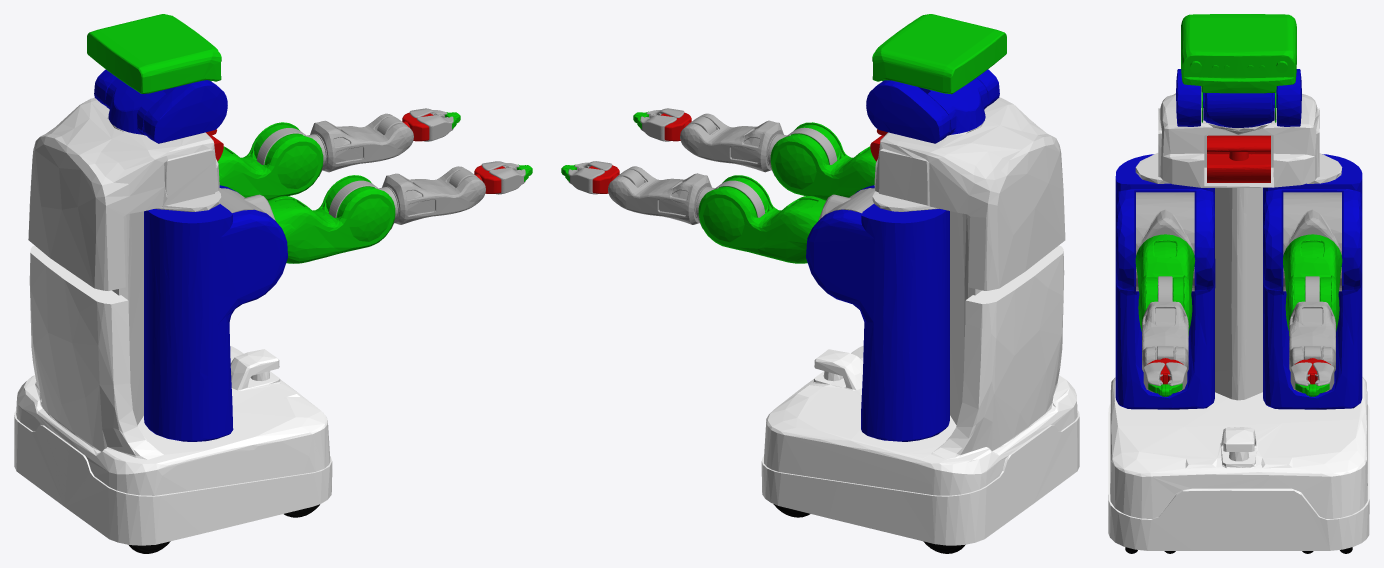
The picture shows the model from 3 angles, left to right: view 1: azimuth 30°, elevation 25°; view 2: azimuth 150°, elevation 25°; view 3: azimuth 270°, elevation 25°; orthographic projection. The views are drawn at different scales.
Visible parts, largest first — view 1: base_link, torso_lift_link, r_shoulder_pan_link, head_tilt_link, r_upper_arm_link, head_pan_link, l_upper_arm_link, r_forearm_link, l_forearm_link, r_shoulder_lift_link, r_elbow_flex_link, l_elbow_flex_link; view 2: base_link, torso_lift_link, l_shoulder_pan_link, head_tilt_link, l_upper_arm_link, head_pan_link, r_upper_arm_link, l_forearm_link, r_forearm_link, l_shoulder_lift_link, l_elbow_flex_link, r_elbow_flex_link; view 3: base_link, torso_lift_link, r_shoulder_pan_link, l_shoulder_pan_link, head_tilt_link, head_pan_link, l_upper_arm_link, r_upper_arm_link, laser_tilt_mount_link, l_shoulder_lift_link, r_shoulder_lift_link, r_forearm_link (+7 smaller).
Boxes of the visible parts, left/top/right/bottom form: base_link: left=14, top=245, right=332, bottom=545; torso_lift_link: left=28, top=97, right=221, bottom=425; r_shoulder_pan_link: left=144, top=185, right=287, bottom=441; head_tilt_link: left=87, top=14, right=221, bottom=93; r_upper_arm_link: left=268, top=175, right=395, bottom=263; head_pan_link: left=94, top=69, right=227, bottom=143; l_upper_arm_link: left=217, top=122, right=323, bottom=200; r_forearm_link: left=382, top=166, right=485, bottom=224; l_forearm_link: left=310, top=113, right=413, bottom=172; r_shoulder_lift_link: left=218, top=188, right=275, bottom=220; r_elbow_flex_link: left=329, top=180, right=397, bottom=229; l_elbow_flex_link: left=257, top=128, right=325, bottom=176; base_link: left=761, top=245, right=1079, bottom=545; torso_lift_link: left=872, top=97, right=1065, bottom=424; l_shoulder_pan_link: left=806, top=185, right=949, bottom=441; head_tilt_link: left=872, top=14, right=1006, bottom=94; l_upper_arm_link: left=698, top=175, right=825, bottom=263; head_pan_link: left=866, top=69, right=999, bottom=143; r_upper_arm_link: left=770, top=122, right=876, bottom=200; l_forearm_link: left=608, top=166, right=711, bottom=224; r_forearm_link: left=680, top=113, right=783, bottom=172; l_shoulder_lift_link: left=818, top=188, right=874, bottom=220; l_elbow_flex_link: left=696, top=180, right=765, bottom=228; r_elbow_flex_link: left=768, top=127, right=837, bottom=176; base_link: left=1108, top=377, right=1369, bottom=550; torso_lift_link: left=1135, top=86, right=1342, bottom=400; r_shoulder_pan_link: left=1115, top=154, right=1215, bottom=409; l_shoulder_pan_link: left=1263, top=154, right=1362, bottom=409; head_tilt_link: left=1181, top=14, right=1296, bottom=122; head_pan_link: left=1176, top=69, right=1301, bottom=127; l_upper_arm_link: left=1283, top=234, right=1342, bottom=335; r_upper_arm_link: left=1135, top=234, right=1195, bottom=335; laser_tilt_mount_link: left=1207, top=135, right=1270, bottom=182; l_shoulder_lift_link: left=1283, top=192, right=1341, bottom=291; r_shoulder_lift_link: left=1136, top=192, right=1194, bottom=291; r_forearm_link: left=1142, top=301, right=1188, bottom=371.
Size of the model in its own units: 1.31 by 0.6668 by 1.33.
